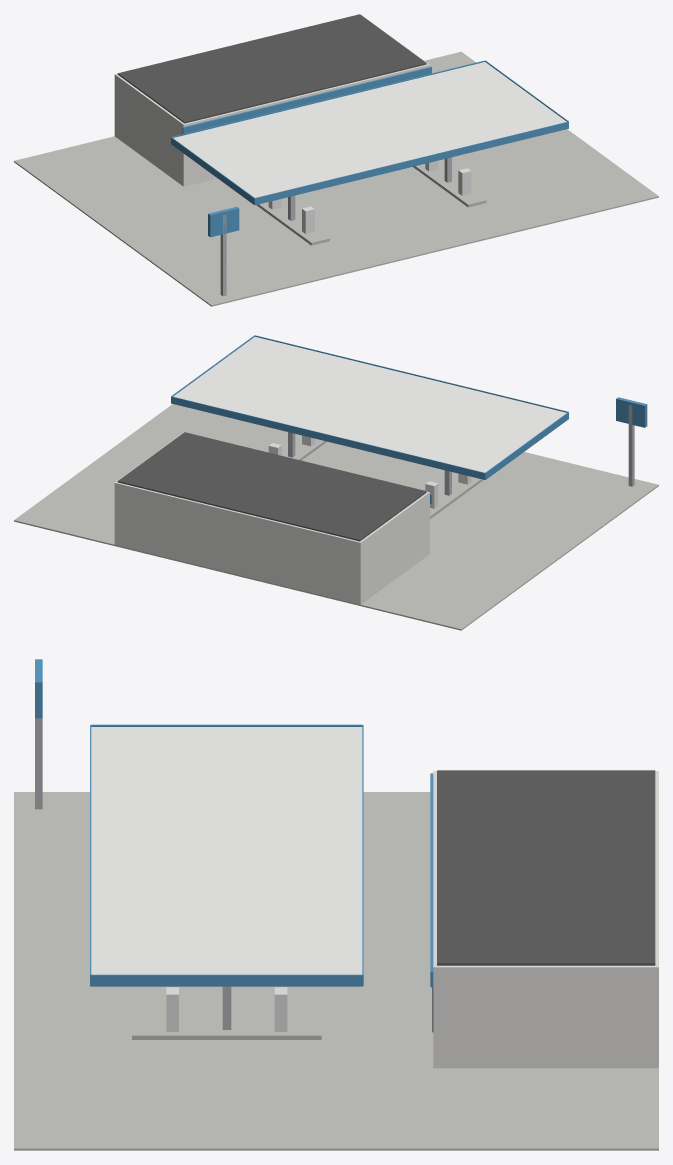
The model's file is SM_GasStation_A.fbx.
The picture shows the model from 3 angles, top to bottom: view 1: azimuth 30°, elevation 25°; view 2: azimuth 150°, elevation 25°; view 3: azimuth 270°, elevation 25°; orthographic projection. The views are drawn at different scales.
Visible parts, largest first — view 1: SM_GasStation_A_LOD0; view 2: SM_GasStation_A_LOD0; view 3: SM_GasStation_A_LOD0.
Part boxes in pixels (box(x1,y1,x2,y2)): SM_GasStation_A_LOD0: box(14, 14, 658, 306); SM_GasStation_A_LOD0: box(14, 335, 658, 630); SM_GasStation_A_LOD0: box(14, 659, 658, 1150).
Size of what is drawn, in the model's own units: 34 by 6.2 by 26.
